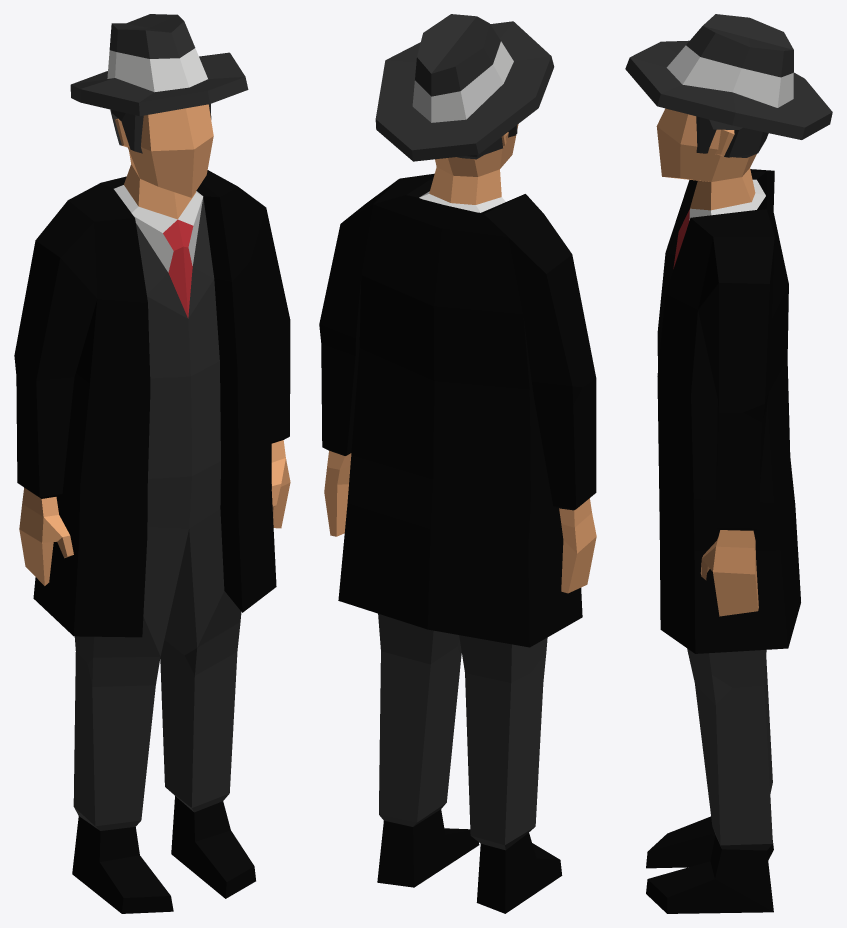
The model's file is man-mafia.glb.
3 renders of one model, left to right at view 1: azimuth 30°, elevation 25°; view 2: azimuth 150°, elevation 25°; view 3: azimuth 270°, elevation 25°, orthographic.
Visible parts, largest first — view 1: man-mafia; view 2: man-mafia; view 3: man-mafia.
Boxes of the visible parts, box(x1,y1,x2,y2) form: man-mafia: box(14, 14, 290, 913); man-mafia: box(319, 14, 596, 913); man-mafia: box(625, 14, 832, 913).
Size of the model in its own units: 0.5881 by 1.89 by 0.4147.
1 material, 1 textured.
